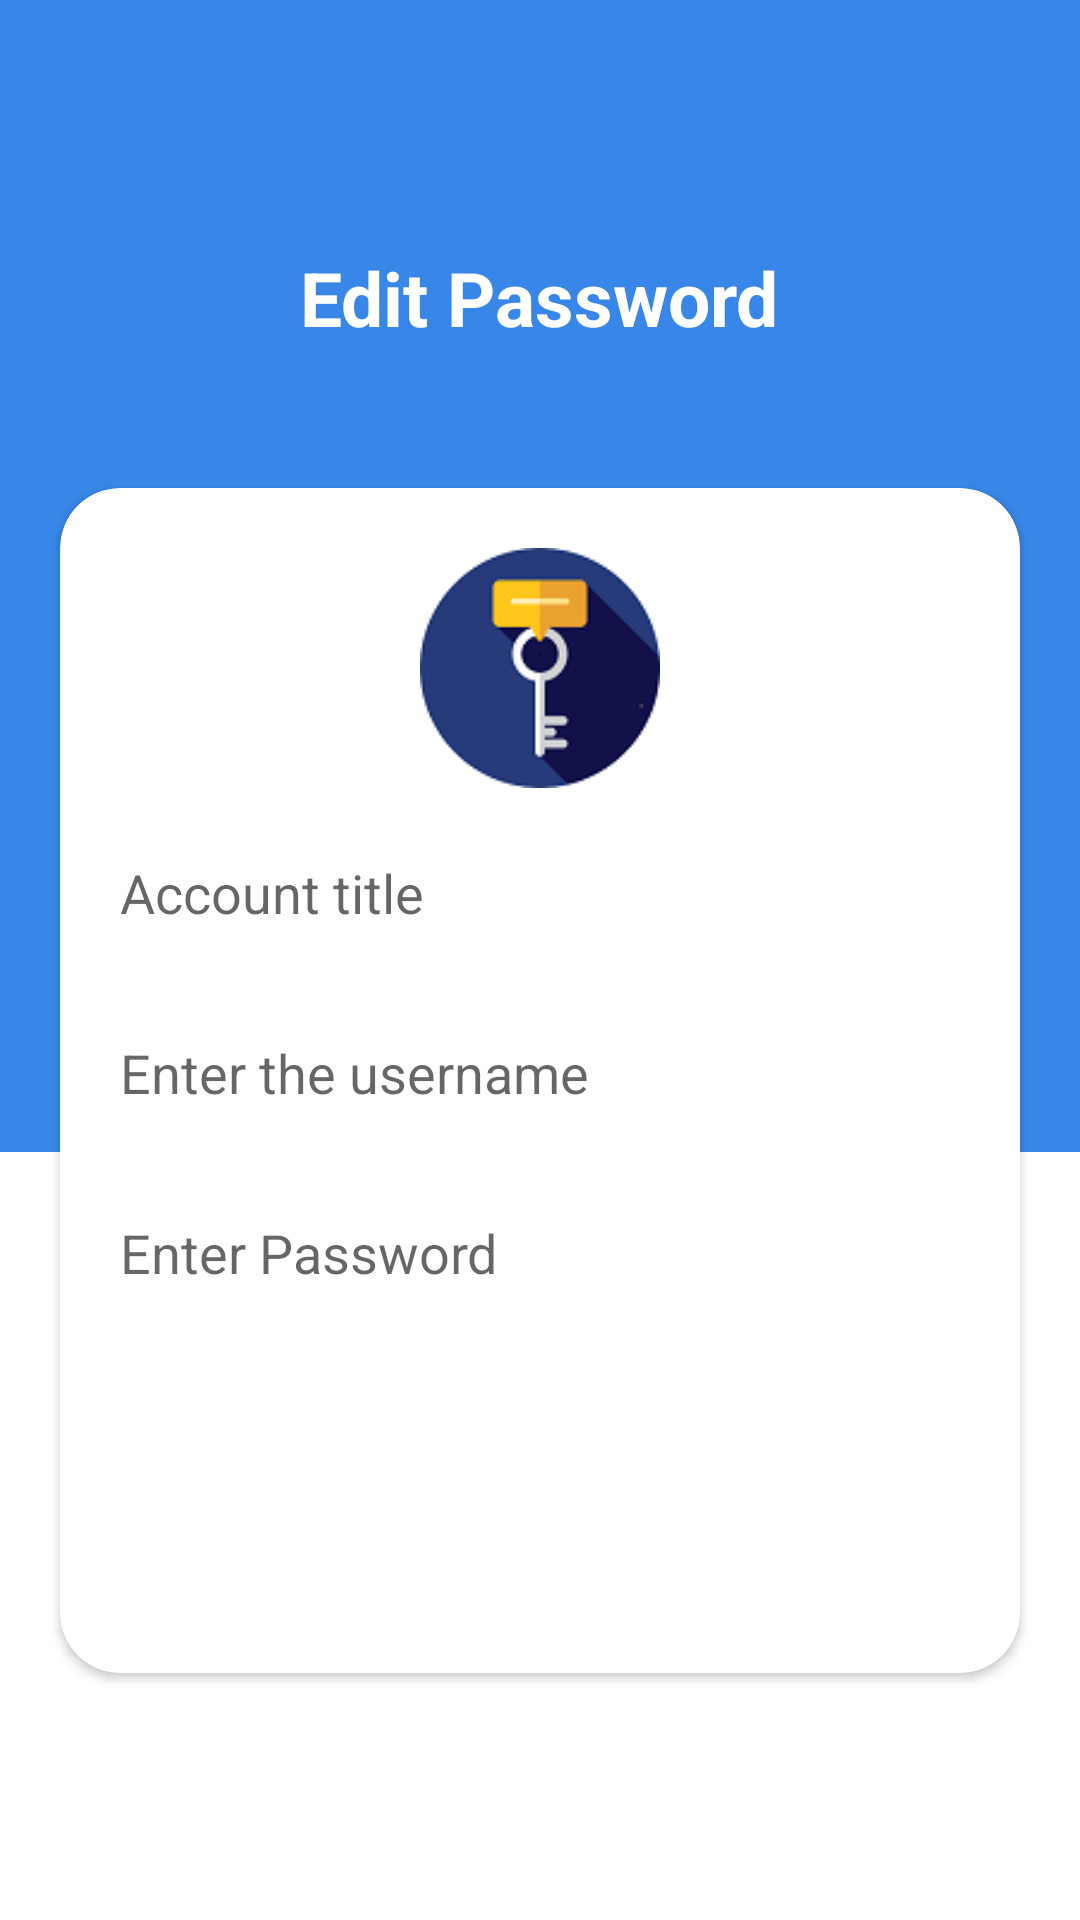

Screen size 1080px x 1920px. Icon name, then its center in pixels as (x=x, y=y):
pass: (x=540, y=668)
